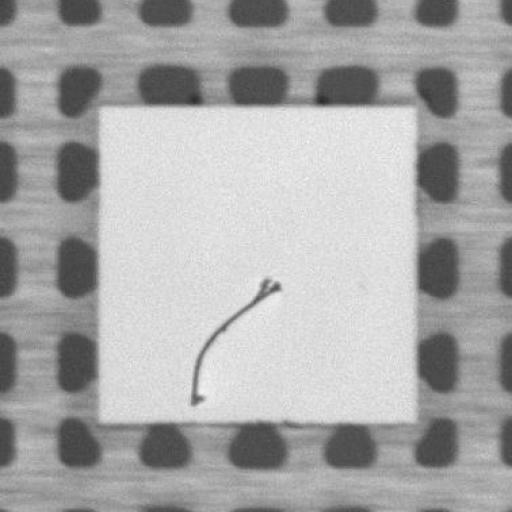DIE_INK: (182, 272, 285, 410)
